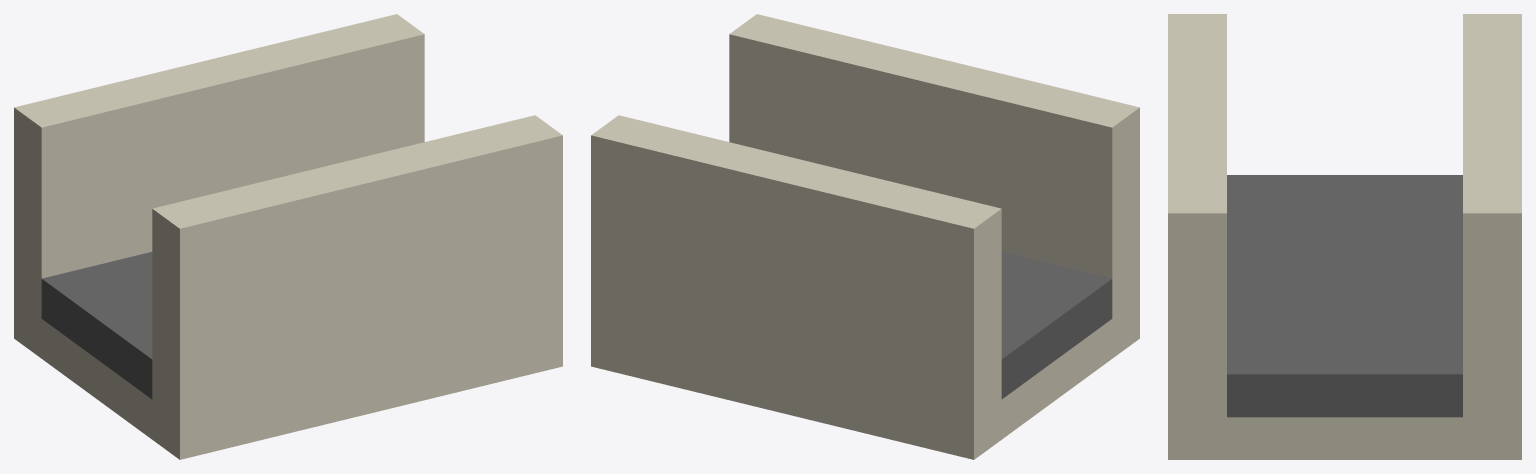
The model's file is roadTile_230.obj.
3 views of the same model, side by side, from view 1: azimuth 30°, elevation 25°; view 2: azimuth 150°, elevation 25°; view 3: azimuth 270°, elevation 25° (orthographic). The views are drawn at different scales.
Parts seen in each view (by area): view 1: Mesh1_Group1_Model.081; view 2: Mesh1_Group1_Model.081; view 3: Mesh1_Group1_Model.081.
Part boxes in pixels (left/top/right/bottom): Mesh1_Group1_Model.081: left=14, top=14, right=562, bottom=459; Mesh1_Group1_Model.081: left=591, top=14, right=1139, bottom=459; Mesh1_Group1_Model.081: left=1168, top=14, right=1521, bottom=459.
Size of the model in its own units: 3 by 1.73 by 2.25.
